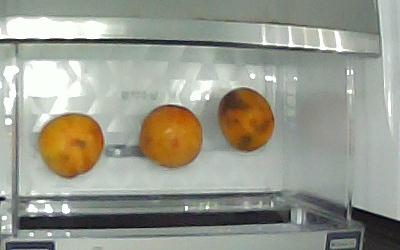peach: (37, 113, 106, 182), (139, 105, 203, 171), (219, 87, 276, 154)
